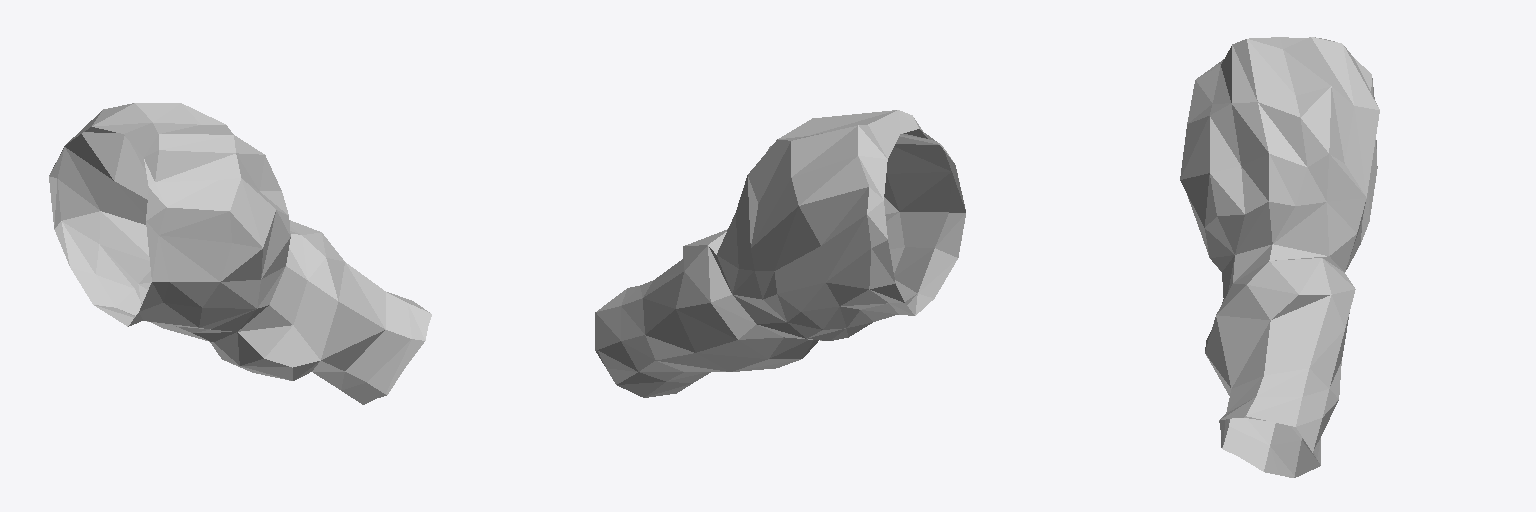
File: Rarm1.obj
3 renders of one model, left to right at view 1: azimuth 30°, elevation 25°; view 2: azimuth 150°, elevation 25°; view 3: azimuth 270°, elevation 25°, orthographic.
Parts seen in each view (by area): view 1: polySurface45 polySurface5 Nier2b:Cube; view 2: polySurface45 polySurface5 Nier2b:Cube; view 3: polySurface45 polySurface5 Nier2b:Cube.
Part boxes in pixels (bbox=[...]): polySurface45 polySurface5 Nier2b:Cube: bbox=[49, 103, 431, 404]; polySurface45 polySurface5 Nier2b:Cube: bbox=[595, 110, 965, 397]; polySurface45 polySurface5 Nier2b:Cube: bbox=[1180, 37, 1379, 477].
Bounding box in the file's own units: 5.64 × 5.49 × 2.97.